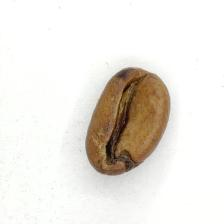NG: (103, 74, 144, 173)
